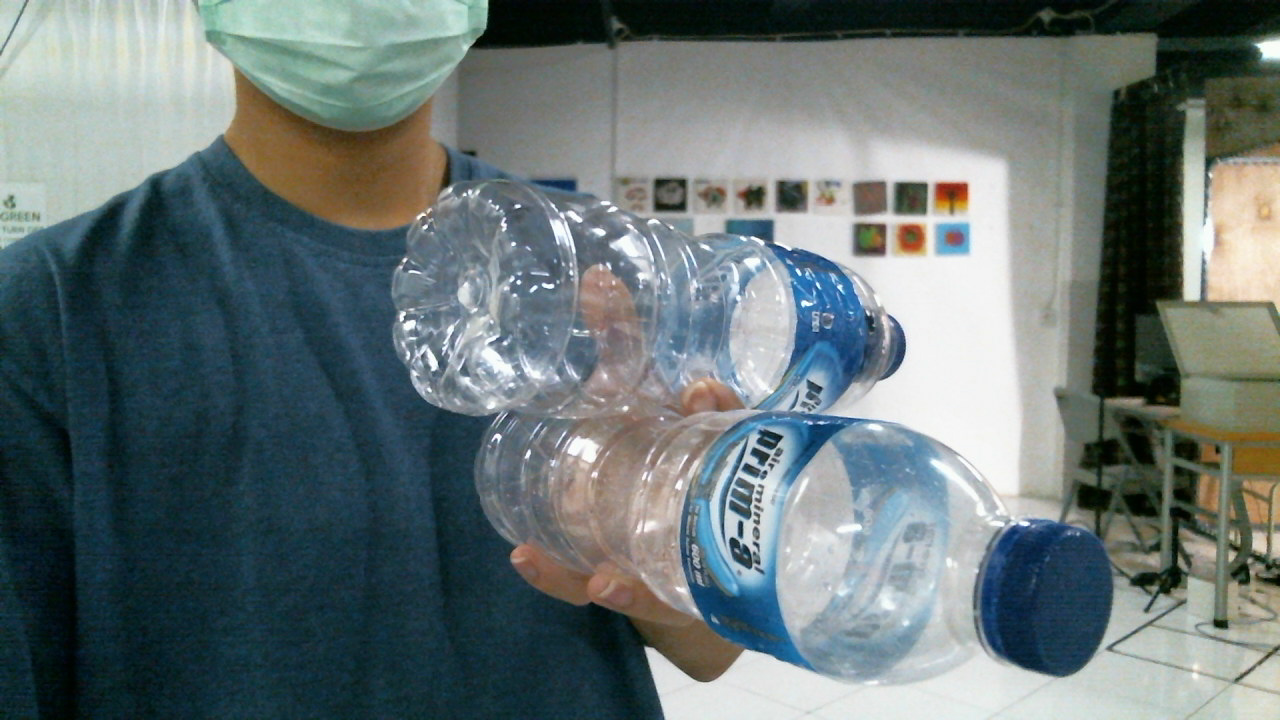Bottle: (474, 404, 1112, 682), (388, 185, 910, 417)
